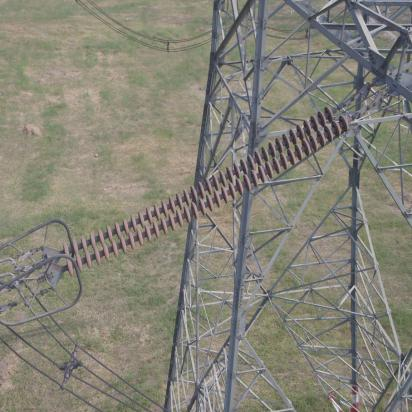insulator: (61, 104, 352, 279)
